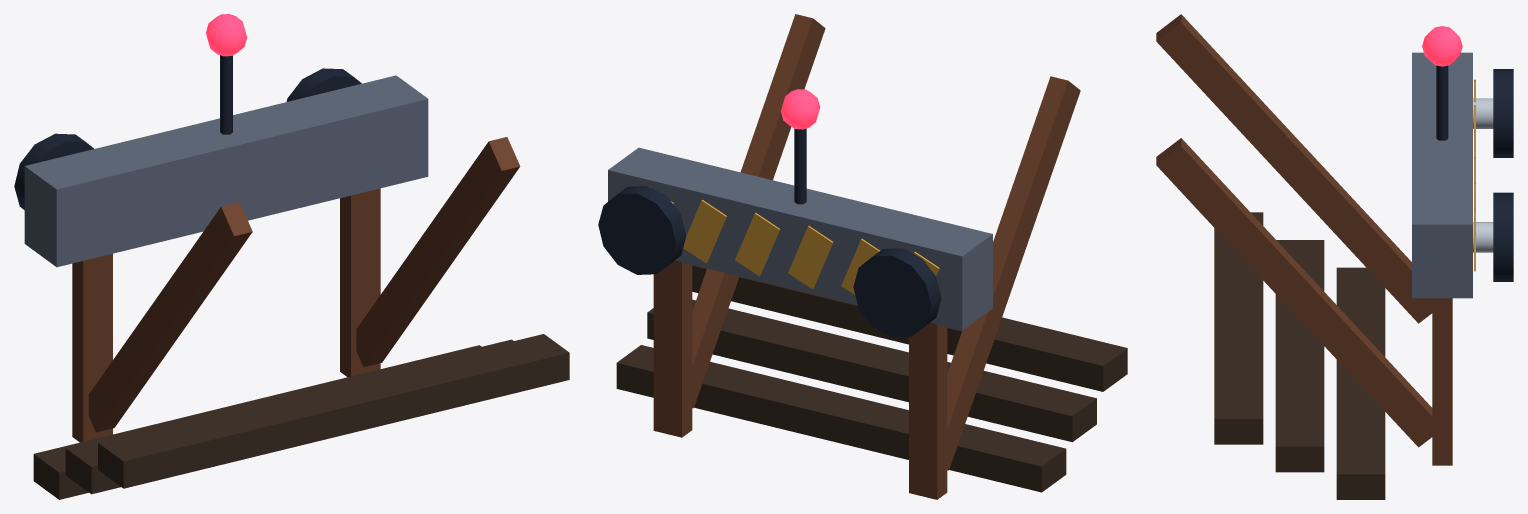
File: switchyard_dress_buffer.glb
3 views of the same model, side by side, from view 1: azimuth 30°, elevation 25°; view 2: azimuth 150°, elevation 25°; view 3: azimuth 270°, elevation 25° (orthographic). The views are drawn at different scales.
Visible parts, largest first — view 1: buf_beam, buf_crib2, buf_strut-1, buf_strut1, buf_post-1, buf_post1, buf_crib1, buf_crib0, buf_head-1, buf_lamp, buf_head1, buf_lamp_post; view 2: buf_beam, buf_crib0, buf_crib1, buf_strut-1, buf_crib2, buf_strut1, buf_post1, buf_post-1, buf_head-1, buf_head1, buf_hazard, buf_lamp (+1 smaller); view 3: buf_strut1, buf_strut-1, buf_beam, buf_crib2, buf_crib1, buf_crib0, buf_post1, buf_head1, buf_head-1, buf_lamp, buf_lamp_post, buf_shank-1 (+1 smaller).
Part boxes in pixels (x1=…): buf_beam: x1=24, y1=75, x2=428, y2=267; buf_crib2: x1=98, y1=334, x2=569, y2=488; buf_strut-1: x1=88, y1=202, x2=252, y2=432; buf_strut1: x1=356, y1=137, x2=520, y2=366; buf_post-1: x1=72, y1=253, x2=112, y2=442; buf_post1: x1=340, y1=188, x2=380, y2=377; buf_crib1: x1=65, y1=339, x2=513, y2=494; buf_crib0: x1=33, y1=345, x2=481, y2=499; buf_head-1: x1=14, y1=133, x2=93, y2=209; buf_lamp: x1=206, y1=14, x2=247, y2=56; buf_head1: x1=286, y1=68, x2=361, y2=101; buf_lamp_post: x1=220, y1=55, x2=232, y2=134; buf_beam: x1=608, y1=147, x2=992, y2=330; buf_crib0: x1=616, y1=345, x2=1066, y2=492; buf_crib1: x1=647, y1=299, x2=1096, y2=442; buf_strut-1: x1=947, y1=76, x2=1080, y2=470; buf_crib2: x1=692, y1=265, x2=1127, y2=391; buf_strut1: x1=692, y1=14, x2=825, y2=408; buf_post1: x1=653, y1=260, x2=692, y2=437; buf_post-1: x1=909, y1=323, x2=947, y2=499; buf_head-1: x1=853, y1=248, x2=941, y2=337; buf_head1: x1=598, y1=186, x2=686, y2=274; buf_hazard: x1=671, y1=200, x2=939, y2=294; buf_lamp: x1=781, y1=89, x2=820, y2=129; buf_strut1: x1=1156, y1=138, x2=1432, y2=447; buf_strut-1: x1=1156, y1=14, x2=1432, y2=323; buf_beam: x1=1412, y1=52, x2=1472, y2=298; buf_crib2: x1=1214, y1=212, x2=1263, y2=444; buf_crib1: x1=1275, y1=240, x2=1324, y2=472; buf_crib0: x1=1336, y1=267, x2=1385, y2=499; buf_post1: x1=1432, y1=298, x2=1452, y2=465; buf_head1: x1=1493, y1=192, x2=1513, y2=281; buf_head-1: x1=1493, y1=69, x2=1513, y2=157; buf_lamp: x1=1422, y1=26, x2=1462, y2=66; buf_lamp_post: x1=1436, y1=65, x2=1448, y2=140; buf_shank-1: x1=1473, y1=98, x2=1493, y2=128.
Bounding box in the file's own units: 2.4 × 2 × 1.76.
